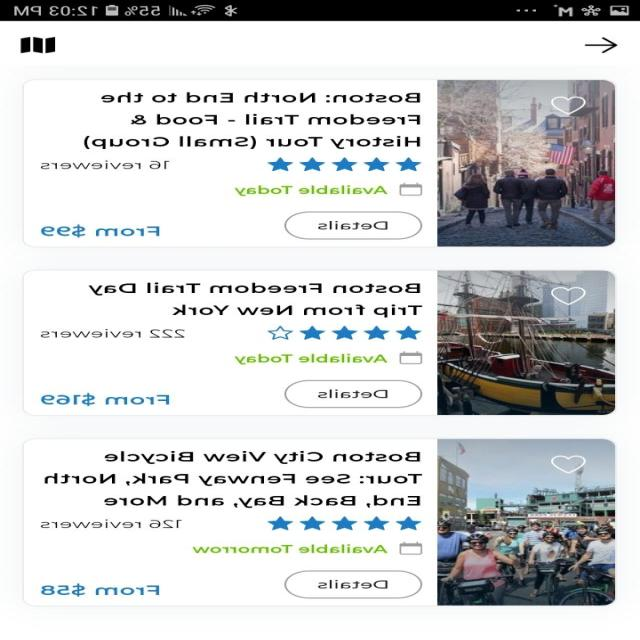Icon: (268, 325, 422, 340), (268, 515, 422, 530), (268, 157, 422, 171), (552, 455, 586, 474), (552, 96, 586, 115), (552, 287, 586, 305), (21, 37, 56, 54), (584, 37, 618, 54), (399, 540, 423, 554), (399, 350, 423, 364), (399, 182, 423, 196)
Image: (437, 438, 615, 605), (437, 80, 615, 247), (437, 270, 616, 415)
Text: (45, 450, 423, 508), (84, 92, 422, 149), (89, 282, 424, 318), (234, 184, 388, 197), (192, 544, 388, 553), (41, 224, 161, 238), (42, 393, 170, 406), (41, 583, 160, 596), (234, 354, 388, 364), (42, 328, 186, 338), (41, 160, 170, 170), (41, 519, 183, 528)
TextButton: (284, 570, 424, 599), (284, 379, 424, 408), (284, 211, 424, 239)
